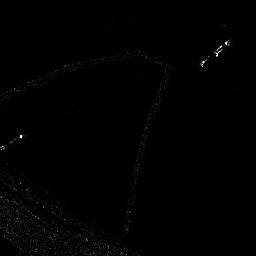ship: (199, 38, 231, 67)
